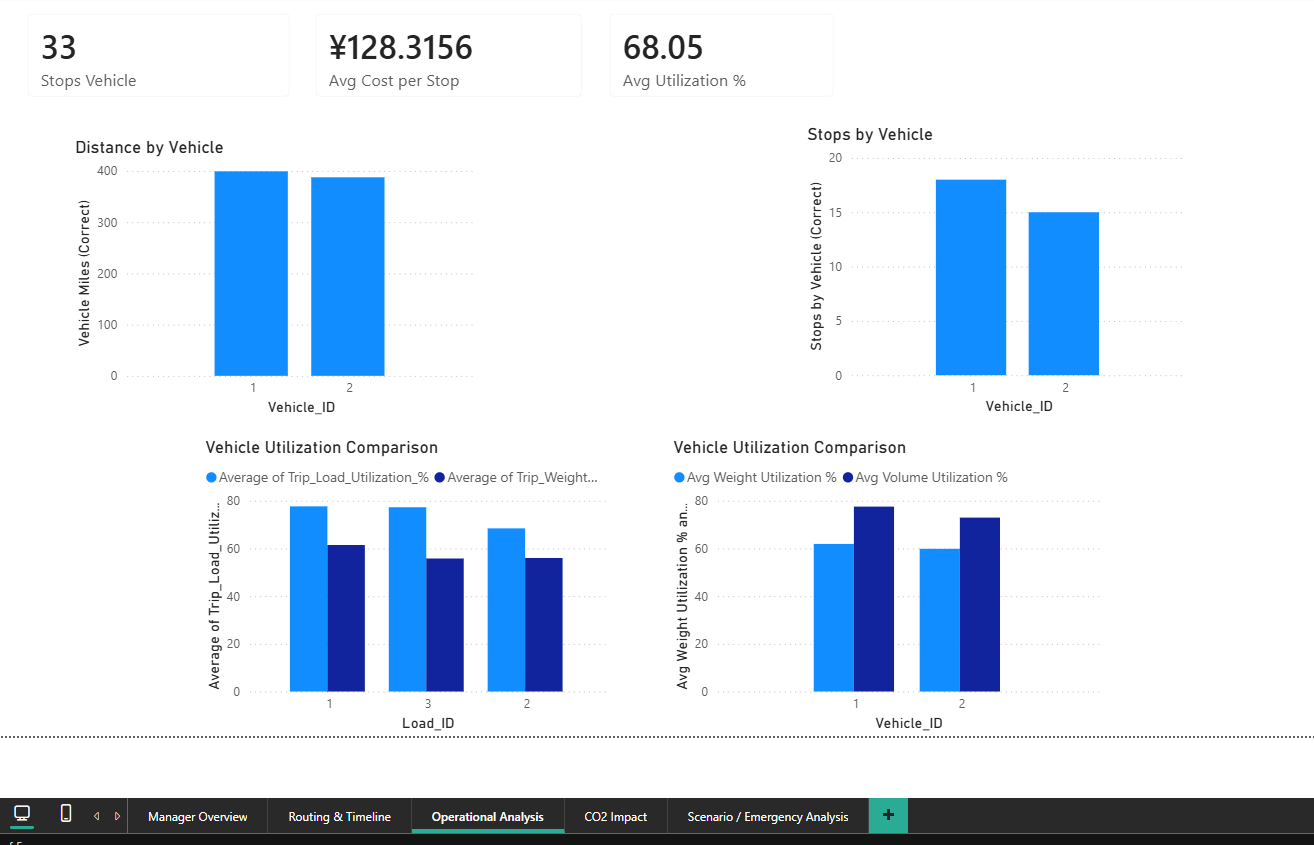

The dashboard page shown, as its layout file describes it:
{"tool":"powerbi","page":{"name":"Operational Analysis","canvas":[1280,720],"ordinal":2},"visuals":[{"type":"cardVisual","fields":{"Data":["Input_Config.Stops by Vehicle"]},"box":[9.9,0,289.5,115.7],"z":0},{"type":"cardVisual","fields":{"Data":["Input_Config.Avg Cost per Stop"]},"box":[289.5,0,293,115.7],"z":1},{"type":"cardVisual","fields":{"Data":["Input_Config.Avg Utilization %"]},"box":[576.1,0,252.6,115.7],"z":2},{"type":"clusteredColumnChart","title":"Distance by Vehicle","fields":{"Category":["Final_Schedule_Model.Vehicle_ID"],"Y":["Input_Config.Vehicle Miles (Correct)"]},"box":[68.1,136.9,399.5,275.3],"z":3},{"type":"clusteredColumnChart","title":"Stops by Vehicle","fields":{"Category":["Final_Schedule_Model.Vehicle_ID"],"Y":["Input_Config.Stops by Vehicle (Correct)"]},"box":[780.5,124.9,378.9,287.4],"z":4},{"type":"clusteredColumnChart","title":"Vehicle Utilization Comparison","fields":{"Category":["Final_Schedule_Model.Vehicle_ID"],"Y":["Input_Config.Avg Weight Utilization %","Input_Config.Avg Volume Utilization %"]},"box":[649.9,429.3,425,290.9],"z":5},{"type":"clusteredColumnChart","title":"Vehicle Utilization Comparison","fields":{"Y":["Avg(Final_Schedule_Model.Trip_Load_Utilization_%)","Avg(Final_Schedule_Model.Trip_Weight_Utilization_%)"],"Category":["Final_Schedule_Model.Load_ID"]},"box":[194.4,429.3,400.2,290.9],"z":6}]}

Visuals, with their boxes on the page's 1280x720 design canvas (x1, y1, x2, y2). These are canvas units, not pixel positions in the 1314x845 screenshot, which may show the page scaled, cropped or inside an application window:
cardVisual - Input_Config.Stops by Vehicle: Rect(10, 0, 299, 116)
cardVisual - Input_Config.Avg Cost per Stop: Rect(290, 0, 582, 116)
cardVisual - Input_Config.Avg Utilization %: Rect(576, 0, 829, 116)
"Distance by Vehicle" clusteredColumnChart: Rect(68, 137, 468, 412)
"Stops by Vehicle" clusteredColumnChart: Rect(780, 125, 1159, 412)
"Vehicle Utilization Comparison" clusteredColumnChart: Rect(650, 429, 1075, 720)
"Vehicle Utilization Comparison" clusteredColumnChart: Rect(194, 429, 595, 720)
